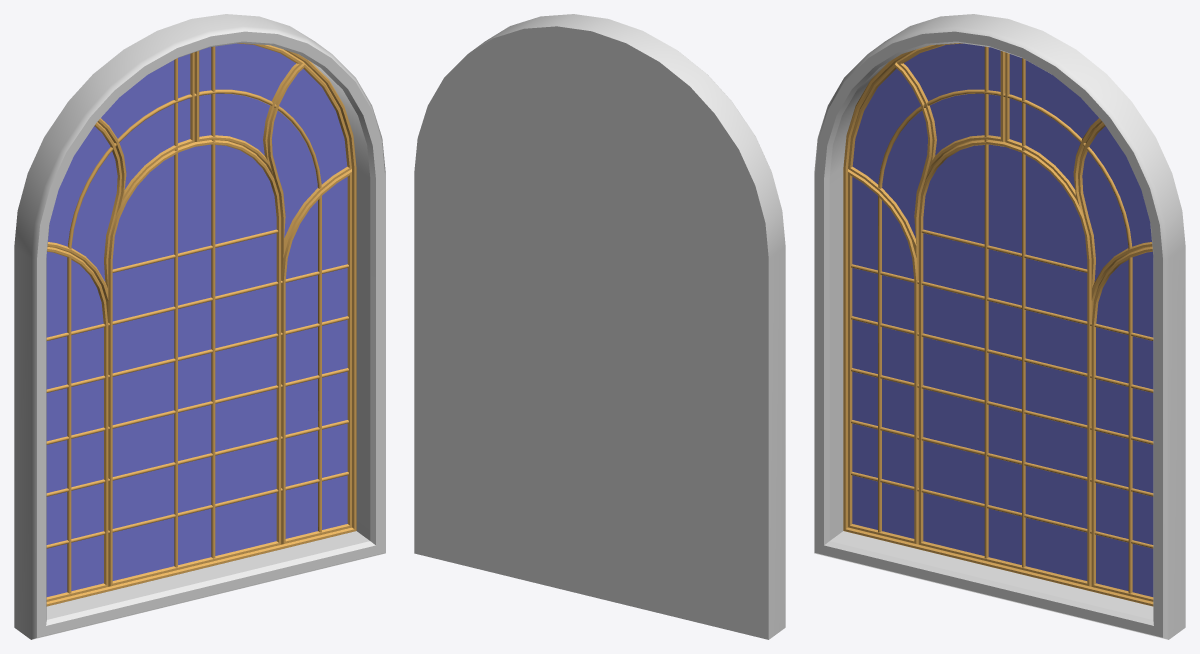
The model's file is SP_House10_Window02.fbx.
The picture shows the model from 3 angles, left to right: view 1: azimuth 30°, elevation 25°; view 2: azimuth 150°, elevation 25°; view 3: azimuth 330°, elevation 25°; orthographic projection.
Parts seen in each view (by area): view 1: SP_House10_Window02; view 2: SP_House10_Window02; view 3: SP_House10_Window02.
Boxes of the visible parts, x1=… form: SP_House10_Window02: x1=14, y1=14, x2=385, y2=639; SP_House10_Window02: x1=414, y1=14, x2=785, y2=639; SP_House10_Window02: x1=814, y1=14, x2=1185, y2=639.
Size of the model in its own units: 2.51 by 3.83 by 0.2388.
